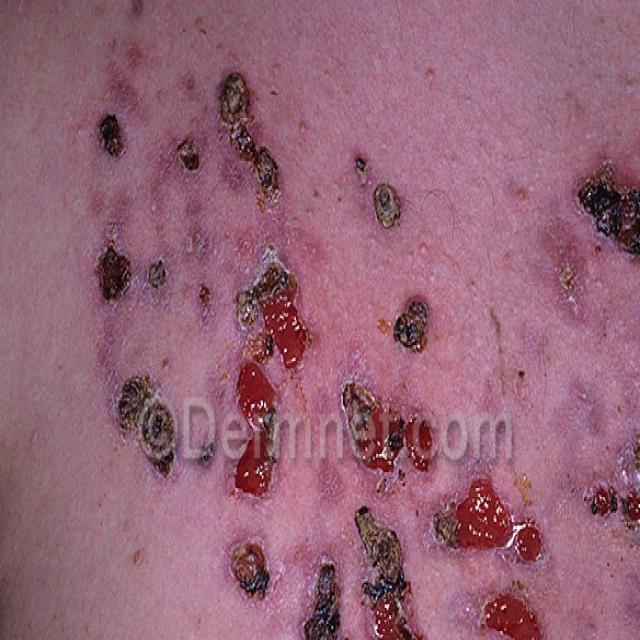Acne: (228, 253, 311, 506), (494, 157, 587, 333), (197, 20, 286, 201), (345, 504, 454, 640), (440, 478, 557, 579), (338, 346, 429, 468), (99, 363, 181, 487), (575, 141, 640, 293), (589, 434, 640, 566), (302, 532, 346, 640), (225, 535, 275, 612), (90, 235, 140, 311), (477, 593, 547, 640), (137, 239, 175, 309), (171, 118, 205, 195), (97, 108, 131, 169)
